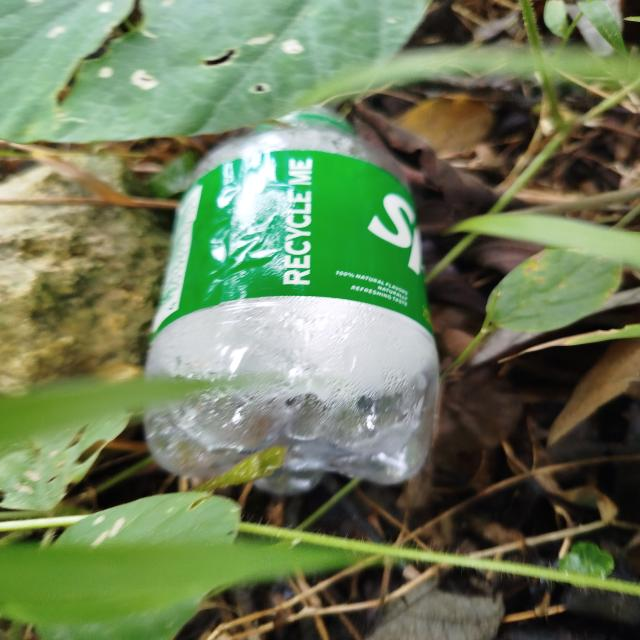plastic: (124, 85, 455, 498)
